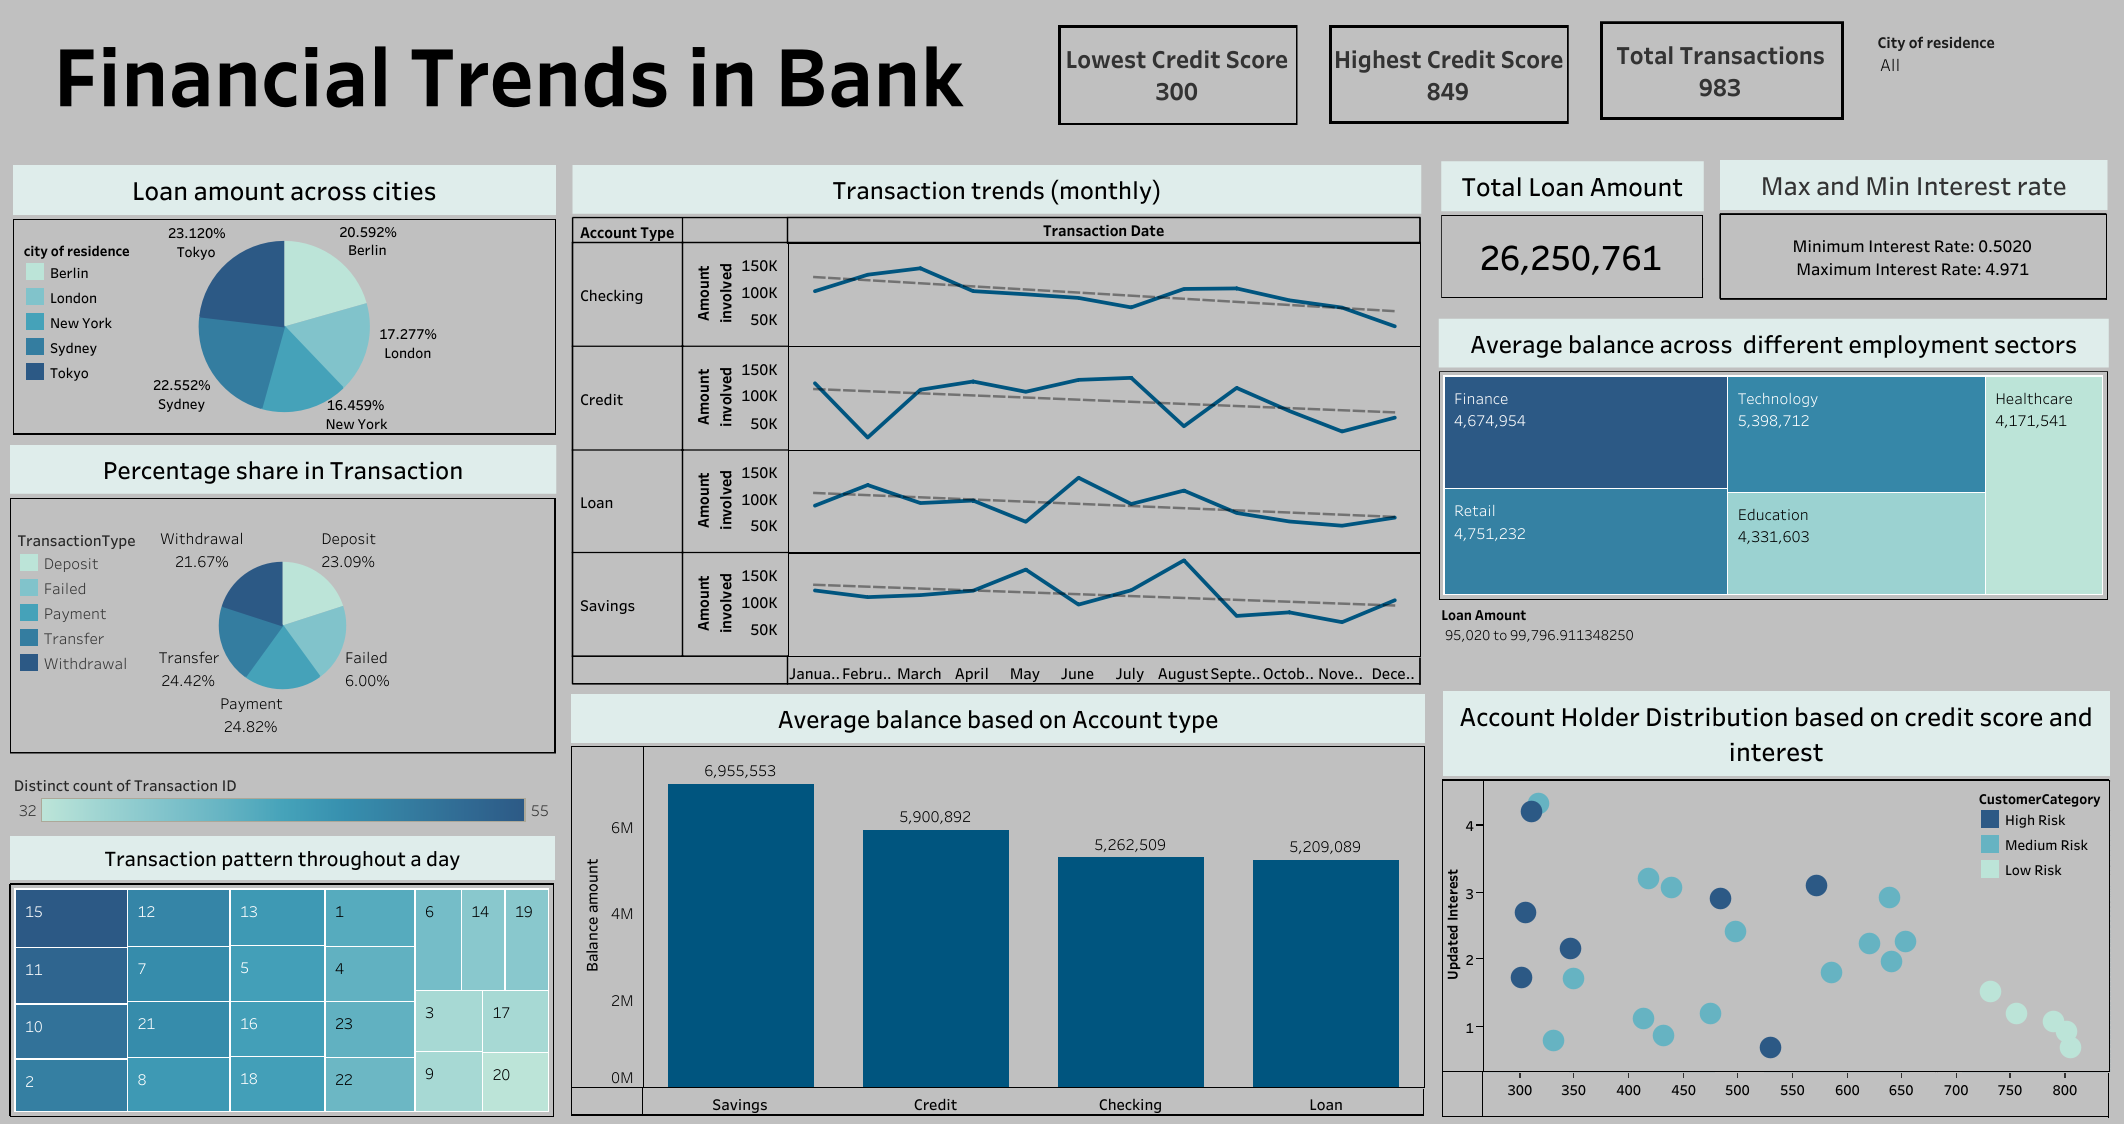

What the dashboard file says about the page in this screenshot:
{"tool":"tableau","page":{"name":"Loan Data analysis","canvas":[1000,800],"ordinal":2},"visuals":[{"type":"text","box":[0,7,990,45]},{"type":"title","box":[8,8,984,42]},{"type":"worksheet","title":"D4:card2","mark":"Automatic","box":[225,59,234,91]},{"type":"worksheet","title":"D4:card1","mark":"Automatic","box":[8,60,212,87]},{"type":"filter","title":"D4:card1","param":"[federated.19vkk5k09lshyg1ax7vg31ke88on].[none:AccountHolderDetails - Split 3 - ","box":[835,60,154,141]},{"type":"parameter","param":"[Parameters].[Parameter 1]","box":[703,63,127,89]},{"type":"filter","title":"account holder distribution","param":"[federated.19vkk5k09lshyg1ax7vg31ke88on].[sum:LoanAmount:qk]","box":[468,66,226,59]},{"type":"worksheet","title":"loan distribution","mark":"Pie","box":[6,168,329,313]},{"type":"worksheet","title":"top n loan holders","mark":"Automatic","rows":["AccountHolder"],"cols":["LoanAmount"],"box":[340,169,314,312]},{"type":"worksheet","title":"credit score distribution","mark":"Automatic","cols":["Calculation_730709084547022850"],"box":[659,207,334,270]},{"type":"worksheet","title":"Q:16","mark":"Automatic","rows":["AccountHolderDetails - Split 3 - Split 1"],"cols":["Calculation_1488158246851960839"],"box":[3,486,438,304]},{"type":"worksheet","title":"account holder distribution","mark":"Automatic","rows":["Calculation_413486786186919936"],"cols":["CreditScore"],"box":[451,486,505,304]},{"type":"legend","title":"account holder distribution","param":"[federated.19vkk5k09lshyg1ax7vg31ke88on].[none:Calculation_1010495211846836226:n","box":[839,528,104,83]},{"type":"worksheet","title":"navigation","mark":"Shape","box":[957,732,41,57]}]}

Visuals, with their boxes on the page's 1000x800 design canvas (x1, y1, x2, y2). These are canvas units, not pixel positions in the 2124x1124 screenshot, which may show the page scaled, cropped or inside an application window:
text: 0, 7, 990, 52
title: 8, 8, 992, 50
"D4:card2" worksheet: 225, 59, 459, 150
"D4:card1" worksheet: 8, 60, 220, 147
"D4:card1" filter: 835, 60, 989, 201
parameter: 703, 63, 830, 152
"account holder distribution" filter: 468, 66, 694, 125
"loan distribution" worksheet (Pie marks): 6, 168, 335, 481
"top n loan holders" worksheet: 340, 169, 654, 481
"credit score distribution" worksheet: 659, 207, 993, 477
"Q:16" worksheet: 3, 486, 441, 790
"account holder distribution" worksheet: 451, 486, 956, 790
"account holder distribution" legend: 839, 528, 943, 611
"navigation" worksheet (Shape marks): 957, 732, 998, 789
